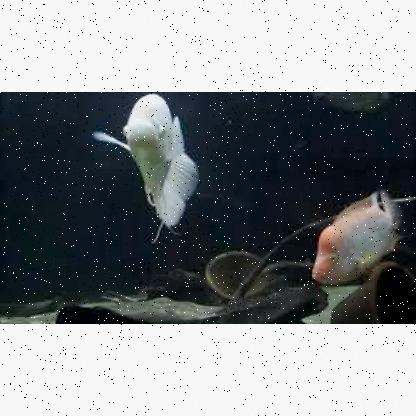gurame: (91, 91, 203, 233), (312, 190, 406, 284)
